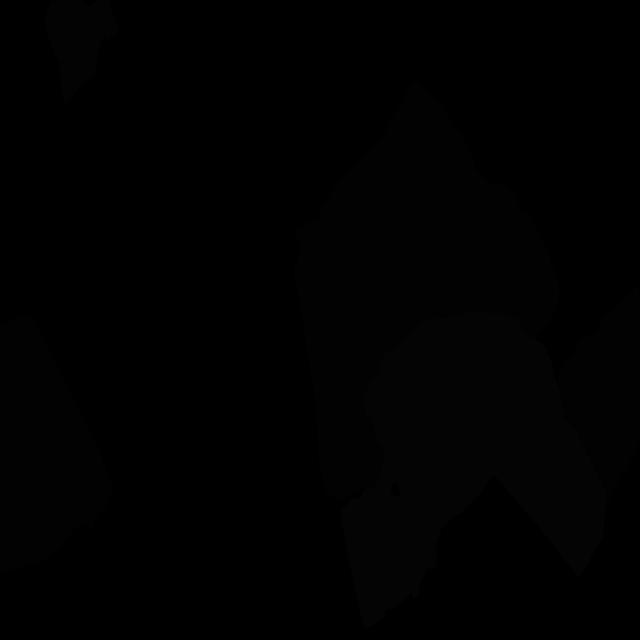cardboard: (294, 80, 560, 500), (0, 313, 114, 572), (557, 284, 640, 505)
metal: (44, 0, 118, 104)
soft_plastic: (364, 312, 607, 578), (341, 485, 426, 628)
